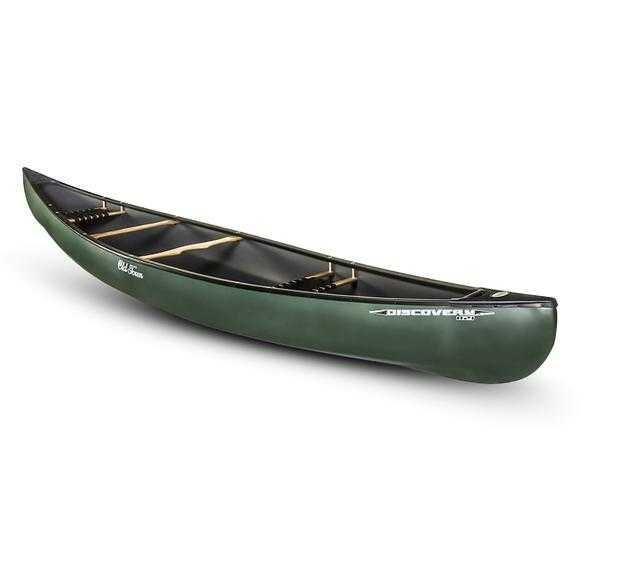kayak: (20, 169, 563, 386)
